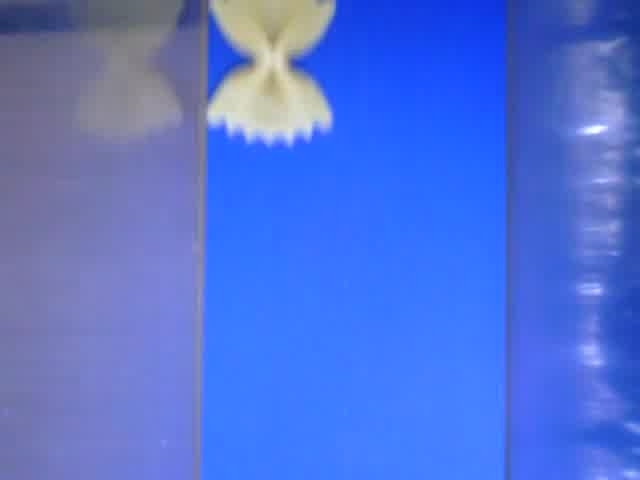farfalle: (206, 1, 333, 146)
